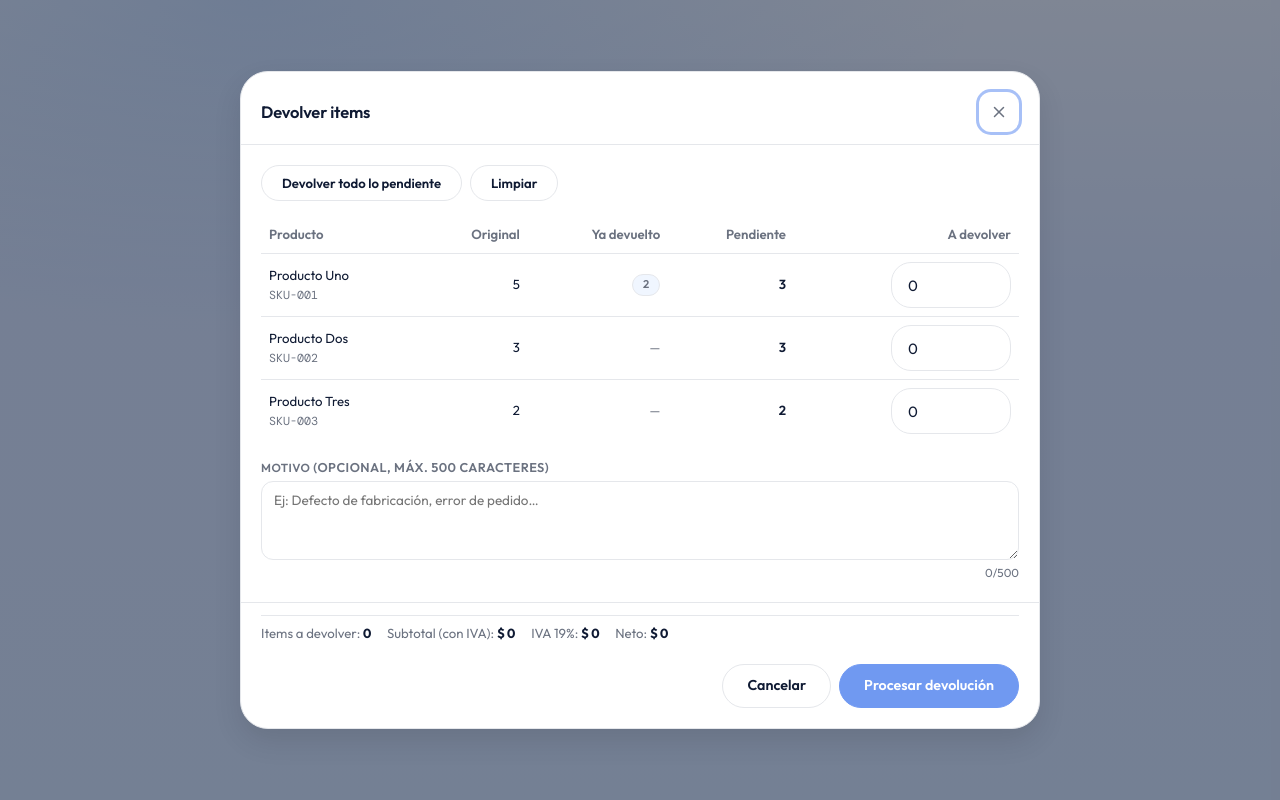
DevolucionModal › botón 'Devolver todo lo pendiente' rellena los inputs con los pendientes
Click the button "Devolver todo lo pendiente" at (362, 184), box [261,166,462,202]
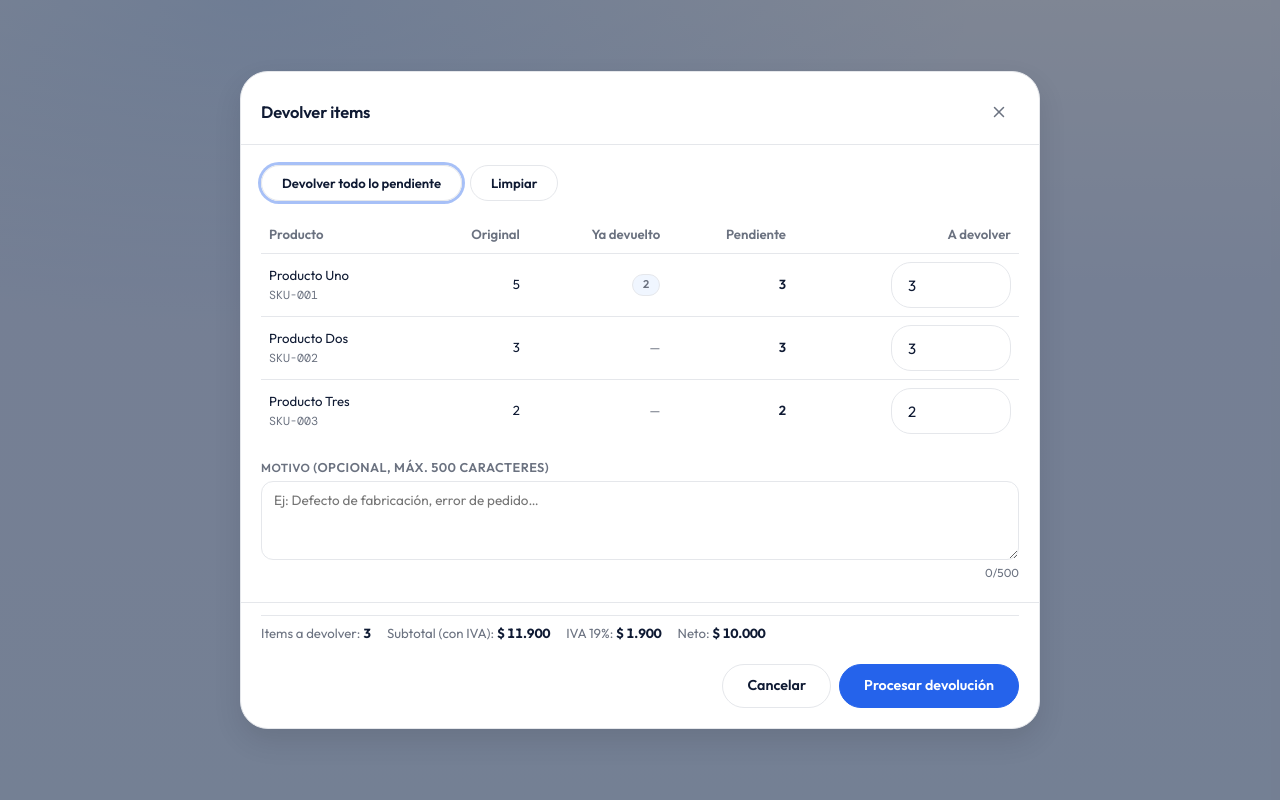
Now the button "Procesar devolución" is enabled, box [839,664,1019,708]
